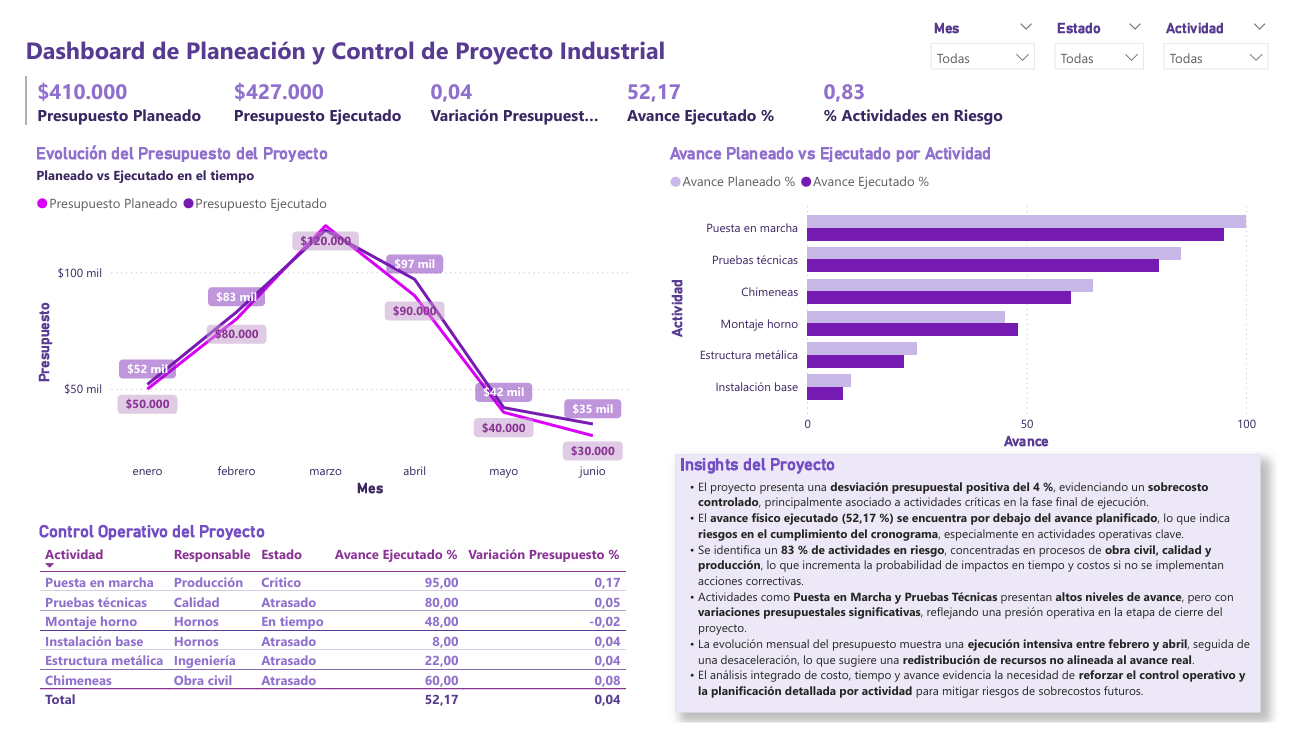

This screenshot's page, from the dashboard's own definition file:
{"tool":"powerbi","page":{"name":"Página 1","canvas":[1280,720],"ordinal":0},"visuals":[{"type":"multiRowCard","fields":{"Values":["Fact_Planeacion_Nutresa.Presupuesto Planeado","Fact_Planeacion_Nutresa.Presupuesto Ejecutado","Fact_Planeacion_Nutresa.Variación Presupuesto %","Fact_Planeacion_Nutresa.Avance Ejecutado %","Fact_Planeacion_Nutresa.% Actividades en Riesgo"]},"box":[0,57.4,1023.1,71.7],"z":0},{"type":"lineChart","title":"Evolución del Presupuesto del Proyecto","fields":{"Category":["Dim_Fecha.Mes"],"Y":["Fact_Planeacion_Nutresa.Presupuesto Planeado","Fact_Planeacion_Nutresa.Presupuesto Ejecutado"]},"box":[11.3,129.7,613.2,365.1],"z":1000},{"type":"clusteredBarChart","title":"Avance Planeado vs Ejecutado por Actividad","fields":{"Category":["Fact_Planeacion_Nutresa.Actividad"],"Y":["Fact_Planeacion_Nutresa.Avance Planeado %","Fact_Planeacion_Nutresa.Avance Ejecutado %"]},"box":[655.5,129.7,607.6,317.2],"z":2000},{"type":"tableEx","title":"Control Operativo del Proyecto","fields":{"Values":["Fact_Planeacion_Nutresa.Actividad","Fact_Planeacion_Nutresa.Responsable","Fact_Planeacion_Nutresa.Estado","Fact_Planeacion_Nutresa.Avance Ejecutado %","Fact_Planeacion_Nutresa.Variación Presupuesto %"]},"box":[14.1,514.5,610.4,205.8],"z":3000},{"type":"slicer","fields":{"Values":["Dim_Fecha.Mes"]},"box":[916.6,0,126.2,71.7],"z":4000},{"type":"slicer","fields":{"Values":["Fact_Planeacion_Nutresa.Actividad"]},"box":[1154.4,0,126.2,86.3],"z":5000},{"type":"slicer","fields":{"Values":["Fact_Planeacion_Nutresa.Estado"]},"box":[1042.8,0,111.6,71.7],"z":6000},{"type":"textbox","box":[0,12.9,667.3,44.5],"z":7000},{"type":"textbox","title":"Insights del Proyecto","box":[666.8,446.9,596.3,263.6],"z":8000}]}

Visuals, with their boxes in screenshot pixels (x1, y1, x2, y2), scaled from the page's 1280x720 canvas onto the 1294x738 screenshot:
multiRowCard - Fact_Planeacion_Nutresa.Presupuesto Planeado x Fact_Planeacion_Nutresa.Presupuesto Ejecutado: x1=0, y1=59, x2=1034, y2=132
"Evolución del Presupuesto del Proyecto" lineChart: x1=11, y1=133, x2=631, y2=507
"Avance Planeado vs Ejecutado por Actividad" clusteredBarChart: x1=663, y1=133, x2=1277, y2=458
"Control Operativo del Proyecto" tableEx: x1=14, y1=527, x2=631, y2=737
slicer - Dim_Fecha.Mes: x1=927, y1=0, x2=1054, y2=73
slicer - Fact_Planeacion_Nutresa.Actividad: x1=1167, y1=0, x2=1293, y2=88
slicer - Fact_Planeacion_Nutresa.Estado: x1=1054, y1=0, x2=1167, y2=73
textbox: x1=0, y1=13, x2=675, y2=59
"Insights del Proyecto" textbox: x1=674, y1=458, x2=1277, y2=728
